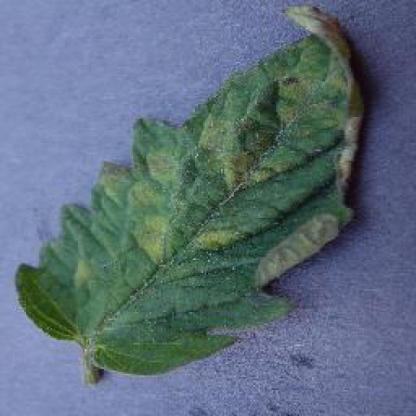Tomato_Leaf_Mold: (14, 5, 358, 374)
